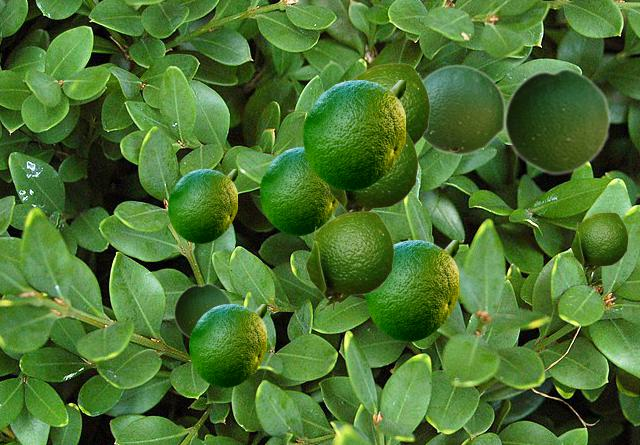dalandan: (504, 66, 610, 175), (303, 80, 404, 189), (365, 240, 457, 340), (304, 211, 393, 311), (324, 128, 417, 211), (422, 64, 505, 155), (344, 63, 429, 145), (260, 147, 338, 234), (189, 304, 265, 386), (168, 169, 236, 242), (570, 212, 627, 276), (173, 282, 232, 338)
